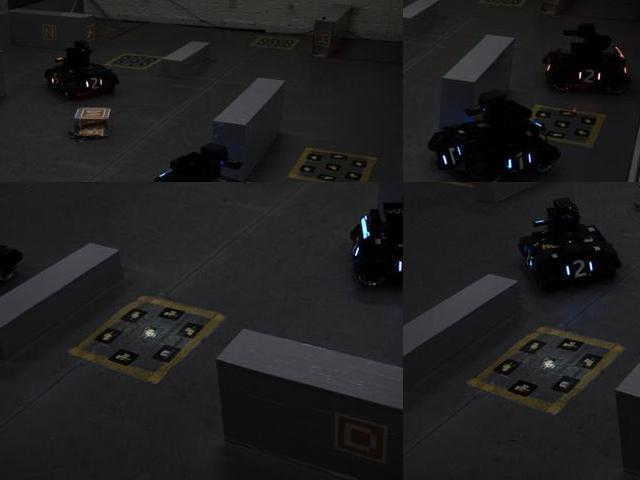armor: (500, 149, 538, 178), (559, 257, 598, 282), (439, 141, 467, 171), (572, 65, 605, 88), (83, 73, 105, 94), (49, 70, 65, 89), (394, 252, 402, 284)
